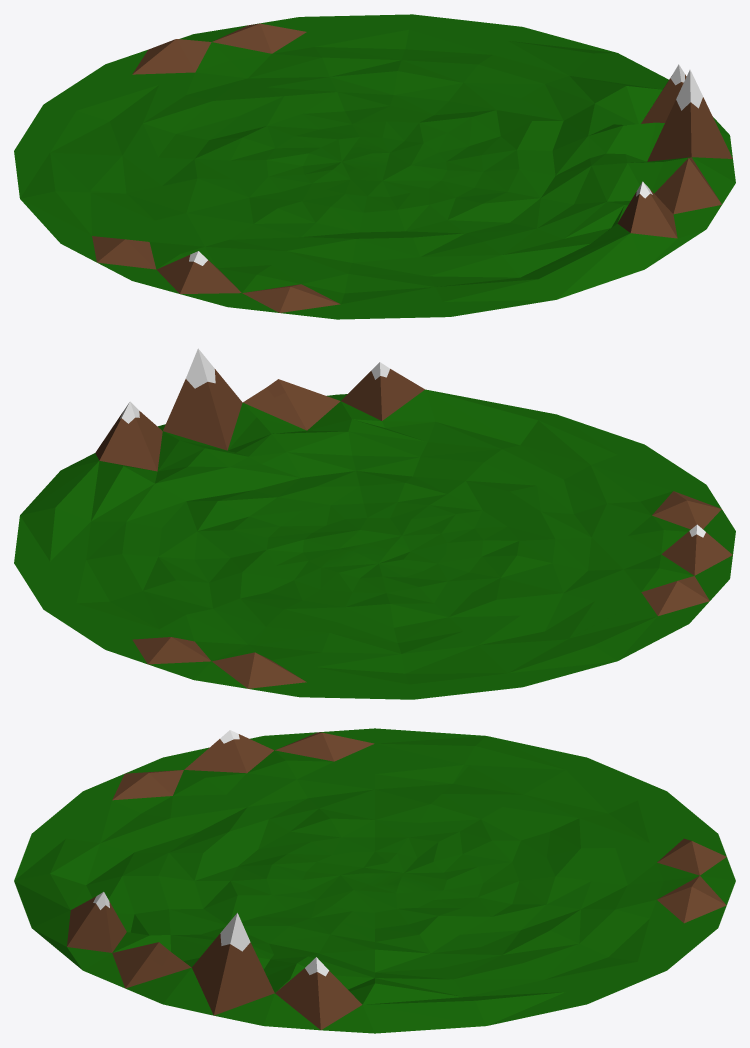
The model's file is Plateau.fbx.
The picture shows the model from 3 angles, top to bottom: view 1: azimuth 30°, elevation 25°; view 2: azimuth 150°, elevation 25°; view 3: azimuth 270°, elevation 25°; orthographic projection.
Parts seen in each view (by area): view 1: Plateau; view 2: Plateau; view 3: Plateau.
Boxes of the visible parts, x1,y1,x2,y2 form: Plateau: (14,14,735,319); Plateau: (14,348,735,699); Plateau: (14,728,735,1033).
Bounding box in the file's own units: 300 × 42.3 × 300.
